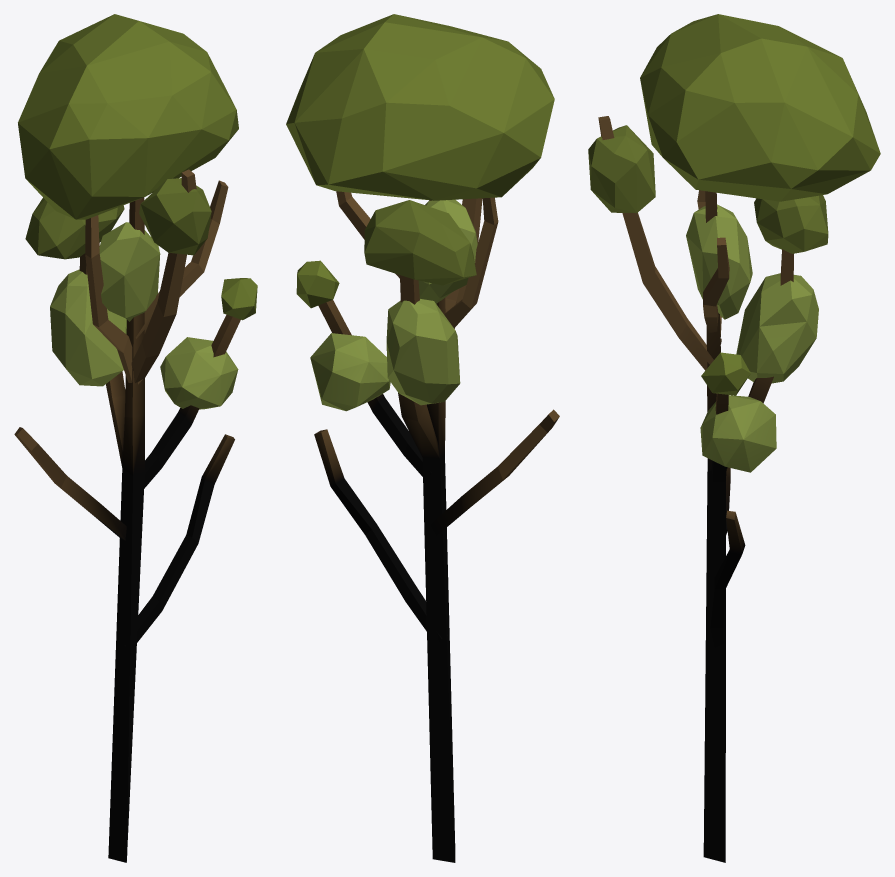
File: EA03_Nature_Tree_01b.glb
3 views of the same model, side by side, from view 1: azimuth 30°, elevation 25°; view 2: azimuth 150°, elevation 25°; view 3: azimuth 270°, elevation 25° (orthographic). The views are drawn at different scales.
Visible parts, largest first — view 1: EA03_Nature_Tree_01b; view 2: EA03_Nature_Tree_01b; view 3: EA03_Nature_Tree_01b.
Boxes of the visible parts, bbox=[...] form: EA03_Nature_Tree_01b: bbox=[14, 14, 257, 862]; EA03_Nature_Tree_01b: bbox=[286, 14, 559, 862]; EA03_Nature_Tree_01b: bbox=[588, 14, 880, 862].
Size of the model in its own units: 3.27 by 10.29 by 3.25.
Materials: 1 (1 with a texture image).
